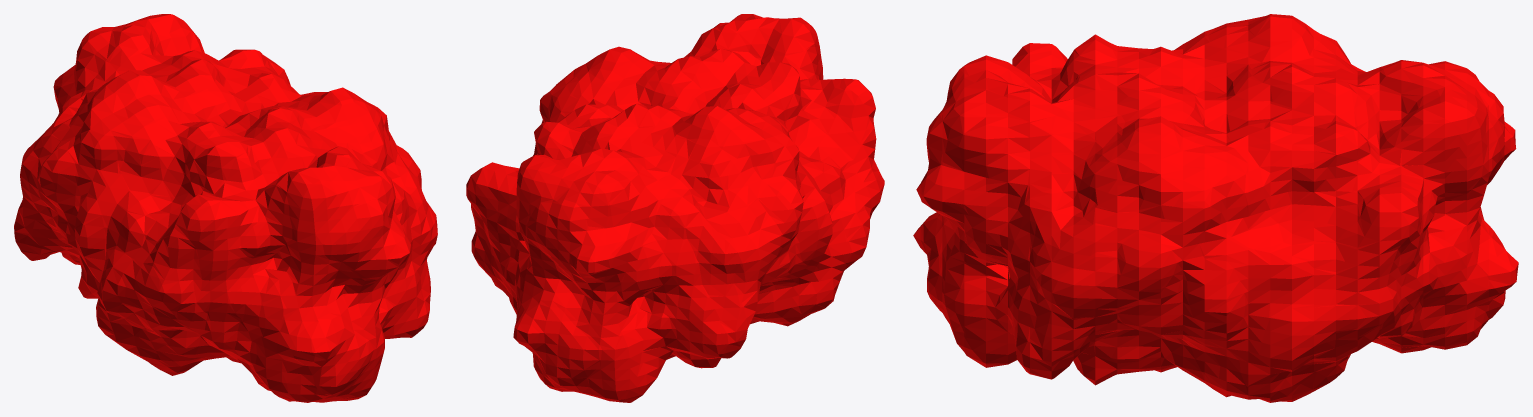
Rendered from katE_coarse.dae.
The picture shows the model from 3 angles, left to right: view 1: azimuth 30°, elevation 25°; view 2: azimuth 150°, elevation 25°; view 3: azimuth 270°, elevation 25°; orthographic projection. The views are drawn at different scales.
Parts seen in each view (by area): view 1: katE; view 2: katE; view 3: katE.
Boxes of the visible parts, x1=… form: katE: x1=14, y1=14, x2=437, y2=402; katE: x1=466, y1=14, x2=884, y2=402; katE: x1=913, y1=14, x2=1518, y2=402.
Bounding box in the file's own units: 101 × 81.2 × 144.
